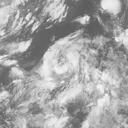cyclone: (43, 40, 116, 113)
